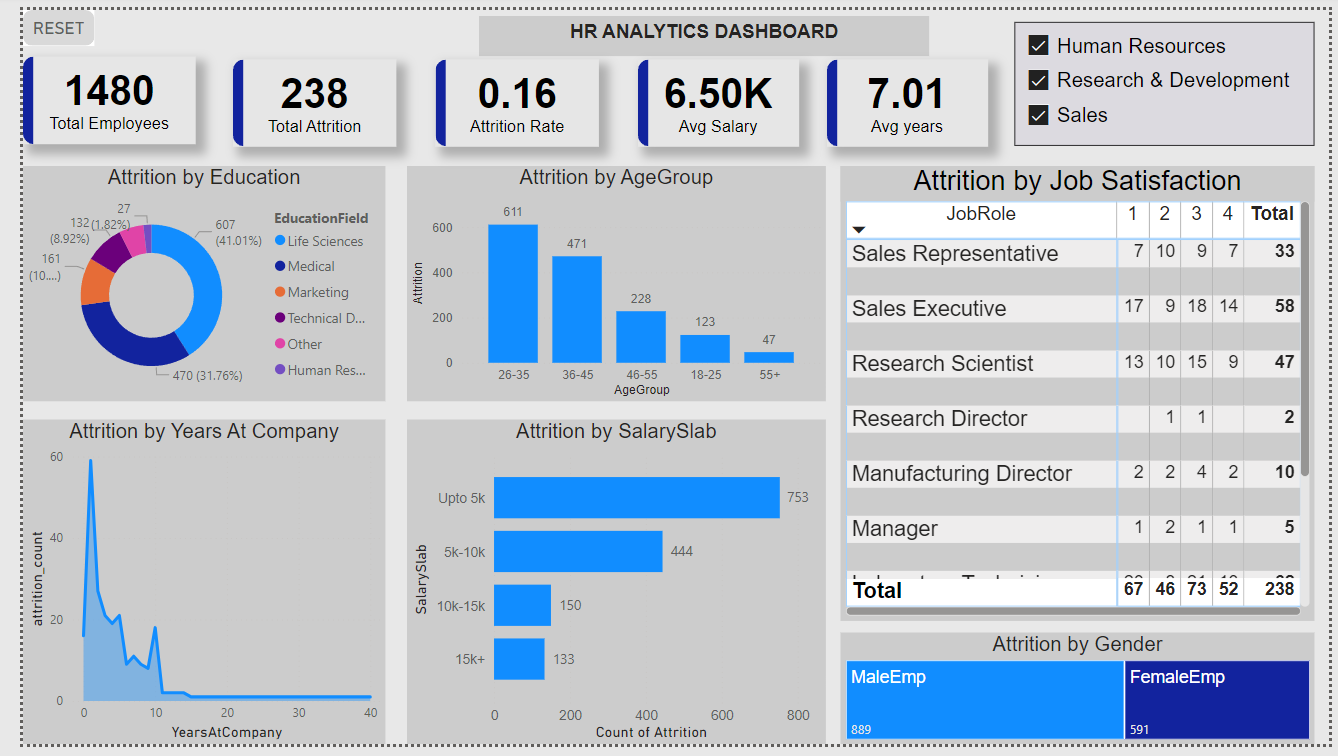

The page's visual inventory and layout, read from the dashboard file:
{"tool":"powerbi","page":{"name":"Page 1","canvas":[1280,720],"ordinal":0},"visuals":[{"type":"cardVisual","fields":{"Data":["Sum(HR_Analysis (2).EmployeeCount)"]},"box":[0,45.3,169.5,86.2],"z":0},{"type":"areaChart","title":"Attrition by Years At Company","fields":{"Category":["HR_Analysis (2).YearsAtCompany"],"Y":["HR_Analysis (2).attrition_count"]},"box":[0,401.9,355.1,318.6],"z":1000},{"type":"donutChart","title":" Attrition by Education","fields":{"Category":["HR_Analysis (2).EducationField"],"Y":["CountNonNull(HR_Analysis (2).Attrition)"]},"box":[0,153.5,355.1,230.9],"z":2000},{"type":"textbox","box":[447.2,5.8,441.4,39.5],"z":3000},{"type":"clusteredBarChart","title":"Attrition by SalarySlab","fields":{"Category":["HR_Analysis (2).SalarySlab"],"Y":["CountNonNull(HR_Analysis (2).Attrition)"]},"box":[377.1,401.9,410.7,318.6],"z":4000},{"type":"columnChart","title":"Attrition by AgeGroup","fields":{"Category":["HR_Analysis (2).AgeGroup"],"Y":["CountNonNull(HR_Analysis (2).Attrition)"]},"box":[377.1,153.5,410.7,230.9],"z":5000},{"type":"cardVisual","fields":{"Data":["HR_Analysis (2).attrition_count"]},"box":[206.6,48.6,160,85.1],"z":6000},{"type":"cardVisual","fields":{"Data":["HR_Analysis (2).Attrition_rate"]},"box":[405.1,48.6,160,85.1],"z":7000},{"type":"cardVisual","fields":{"Data":["HR_Analysis (2).AVG_YEARS"]},"box":[787.8,48.6,158,85.1],"z":8000},{"type":"cardVisual","fields":{"Data":["HR_Analysis (2).AVG_SALARY"]},"box":[603.5,48.6,158,85.1],"z":9000},{"type":"treemap","title":"Attrition by Gender","fields":{"Values":["HR_Analysis (2).MaleEmp","HR_Analysis (2).FemaleEmp"]},"box":[800.9,610.9,464.7,109.6],"z":10000},{"type":"pivotTable","title":"Attrition by Job Satisfaction","fields":{"Rows":["HR_Analysis (2).JobRole"],"Columns":["HR_Analysis (2).JobSatisfaction"],"Values":["HR_Analysis (2).attrition_count"]},"box":[800.9,153.5,464.7,445.7],"z":11000},{"type":"slicer","fields":{"Values":["HR_Analysis (2).Department"]},"box":[971.9,11.7,293.8,121.3],"z":12000},{"type":"actionButton","box":[0,0,70,35],"z":13000}]}

Visuals, with their boxes in screenshot pixels (x1, y1, x2, y2), scaled from the page's 1280x720 canvas onto the 1338x756 screenshot:
cardVisual - Sum(HR_Analysis (2).EmployeeCount): bbox=[0, 48, 177, 138]
"Attrition by Years At Company" areaChart: bbox=[0, 422, 371, 755]
" Attrition by Education" donutChart: bbox=[0, 161, 371, 404]
textbox: bbox=[467, 6, 929, 48]
"Attrition by SalarySlab" clusteredBarChart: bbox=[394, 422, 823, 755]
"Attrition by AgeGroup" columnChart: bbox=[394, 161, 823, 404]
cardVisual - HR_Analysis (2).attrition_count: bbox=[216, 51, 383, 140]
cardVisual - HR_Analysis (2).Attrition_rate: bbox=[423, 51, 591, 140]
cardVisual - HR_Analysis (2).AVG_YEARS: bbox=[823, 51, 989, 140]
cardVisual - HR_Analysis (2).AVG_SALARY: bbox=[631, 51, 796, 140]
"Attrition by Gender" treemap: bbox=[837, 641, 1323, 755]
"Attrition by Job Satisfaction" pivotTable: bbox=[837, 161, 1323, 629]
slicer - HR_Analysis (2).Department: bbox=[1016, 12, 1323, 140]
actionButton: bbox=[0, 0, 73, 37]
